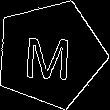M_N: (25, 27, 76, 81)
